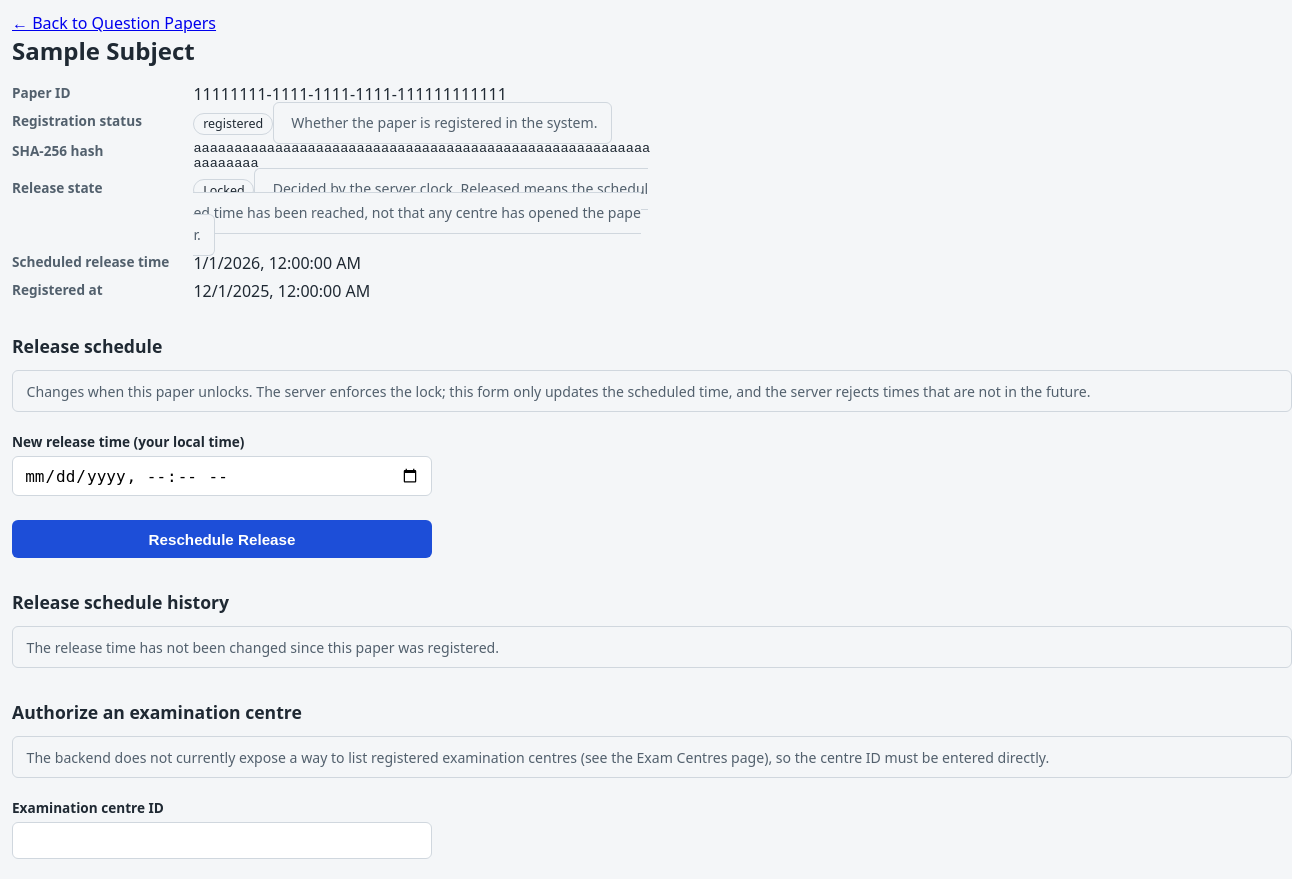
Test: PaperDetailPage — Phase 6G release scheduling › validates an empty value without sending a request
Click the button "Reschedule Release" at (222, 539), box [12,520,432,558]
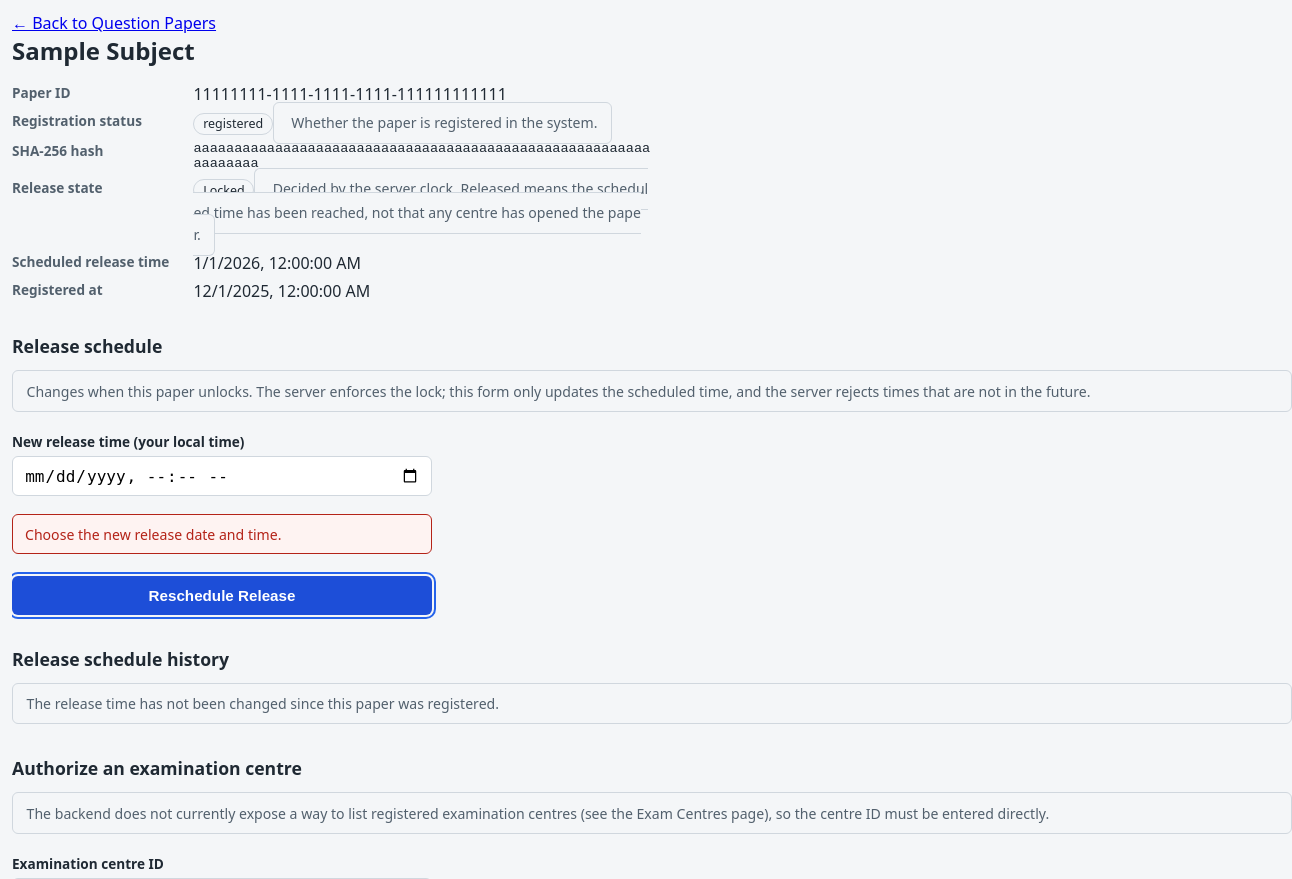
Expected: the text "Choose the new release date and time." is shown, [12,514,432,554]
